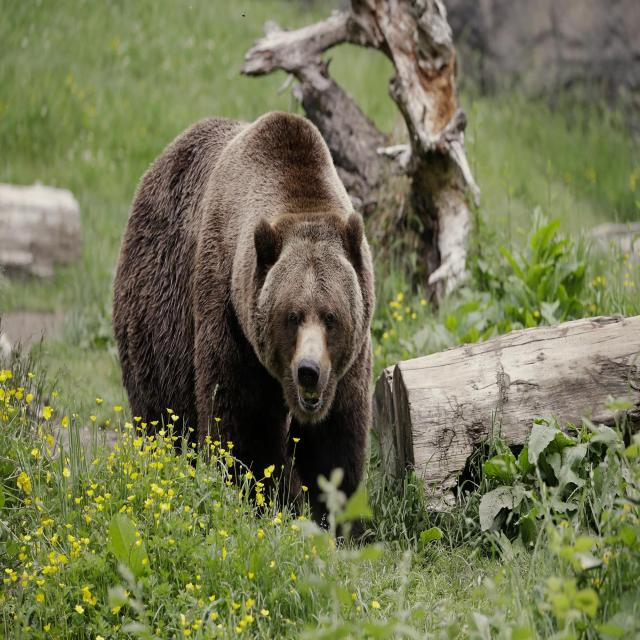Bear: (112, 112, 378, 534)
